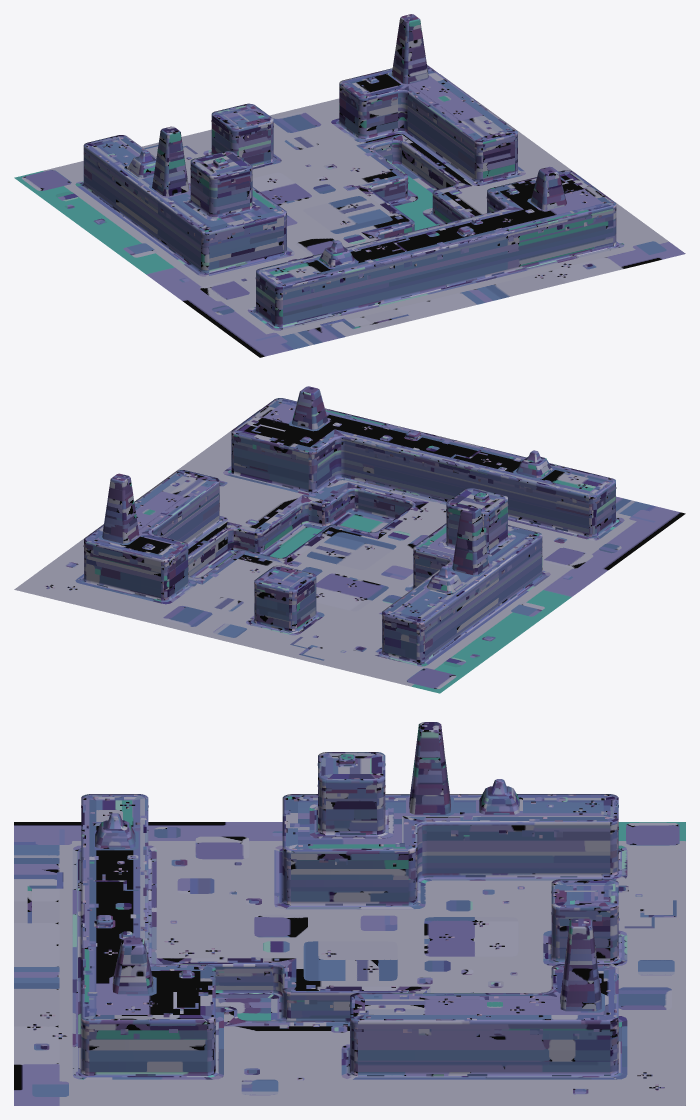
Rendered from C_cave1_09.fbx.
The picture shows the model from 3 angles, top to bottom: view 1: azimuth 30°, elevation 25°; view 2: azimuth 150°, elevation 25°; view 3: azimuth 270°, elevation 25°; orthographic projection. The views are drawn at different scales.
Visible parts, largest first — view 1: model; view 2: model; view 3: model.
Boxes of the visible parts, x1,y1,x2,y2 form: model: [14, 14, 685, 357]; model: [14, 386, 685, 693]; model: [14, 722, 685, 1105].
Size of the model in its own units: 50 by 14.78 by 50.
